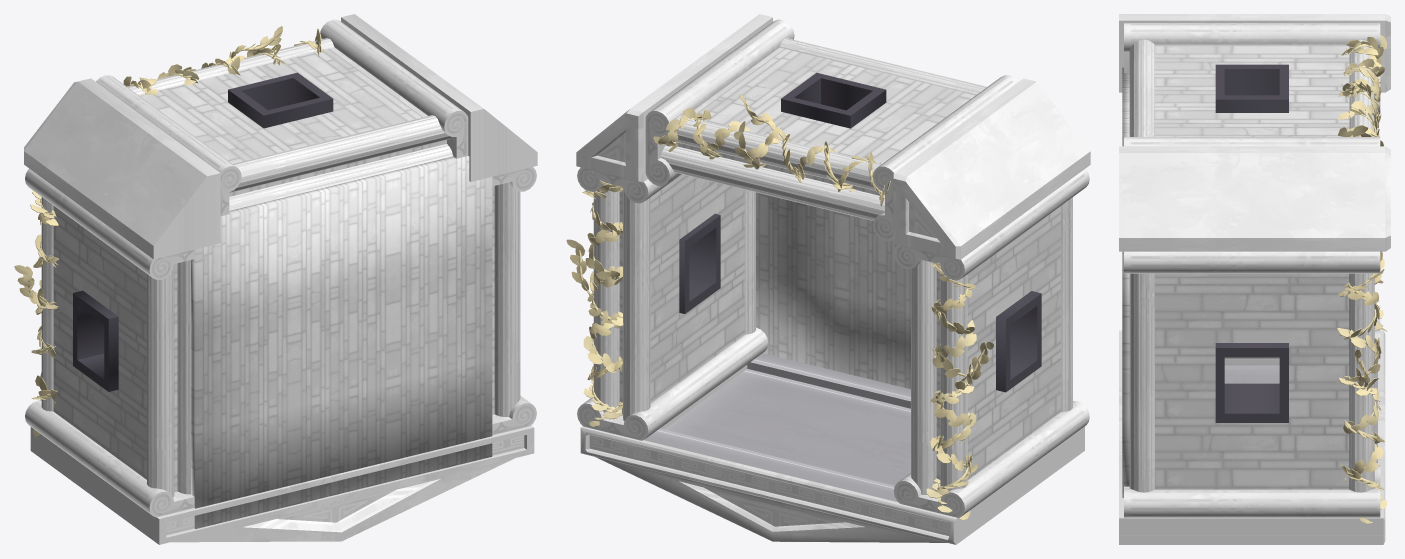
Rendered from UpperBorderRoom.fbx.
3 renders of one model, left to right at view 1: azimuth 30°, elevation 25°; view 2: azimuth 150°, elevation 25°; view 3: azimuth 270°, elevation 25°, orthographic. The views are drawn at different scales.
Visible parts, largest first — view 1: Plane.008; view 2: Plane.008; view 3: Plane.008.
Part boxes in pixels (bbox=[...]): Plane.008: bbox=[14, 14, 537, 544]; Plane.008: bbox=[566, 14, 1090, 544]; Plane.008: bbox=[1119, 14, 1390, 544].
Bounding box in the file's own units: 6045 × 5745 × 3240.
2 materials, 2 textured.
